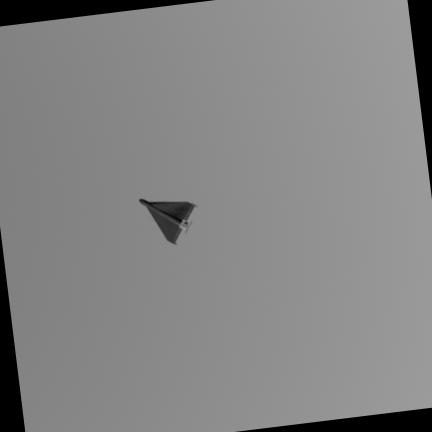Shahed: (139, 198, 194, 242)
